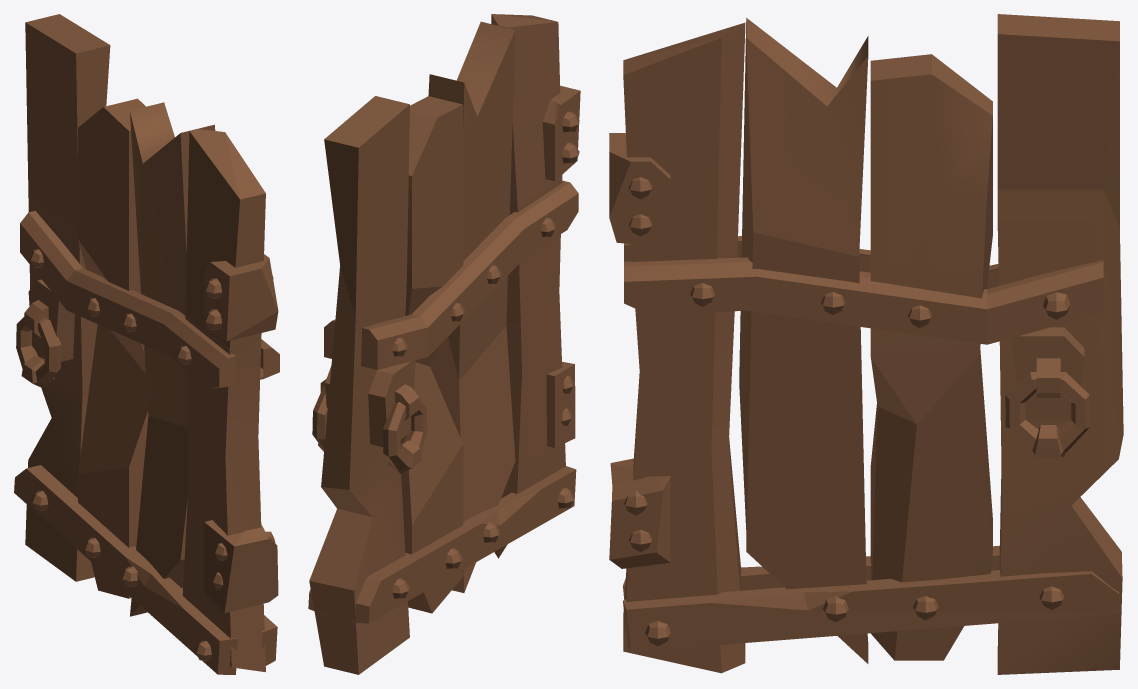
File: handle door 3.fbx
3 views of the same model, side by side, from view 1: azimuth 30°, elevation 25°; view 2: azimuth 150°, elevation 25°; view 3: azimuth 270°, elevation 25° (orthographic). The views are drawn at different scales.
Parts seen in each view (by area): view 1: handle_door_3; view 2: handle_door_3; view 3: handle_door_3.
Part boxes in pixels (<box>): handle_door_3: <box>14,14,279,674</box>; handle_door_3: <box>308,14,580,674</box>; handle_door_3: <box>609,14,1123,674</box>.
Size of the model in its own units: 0.4007 by 2.18 by 1.59.
